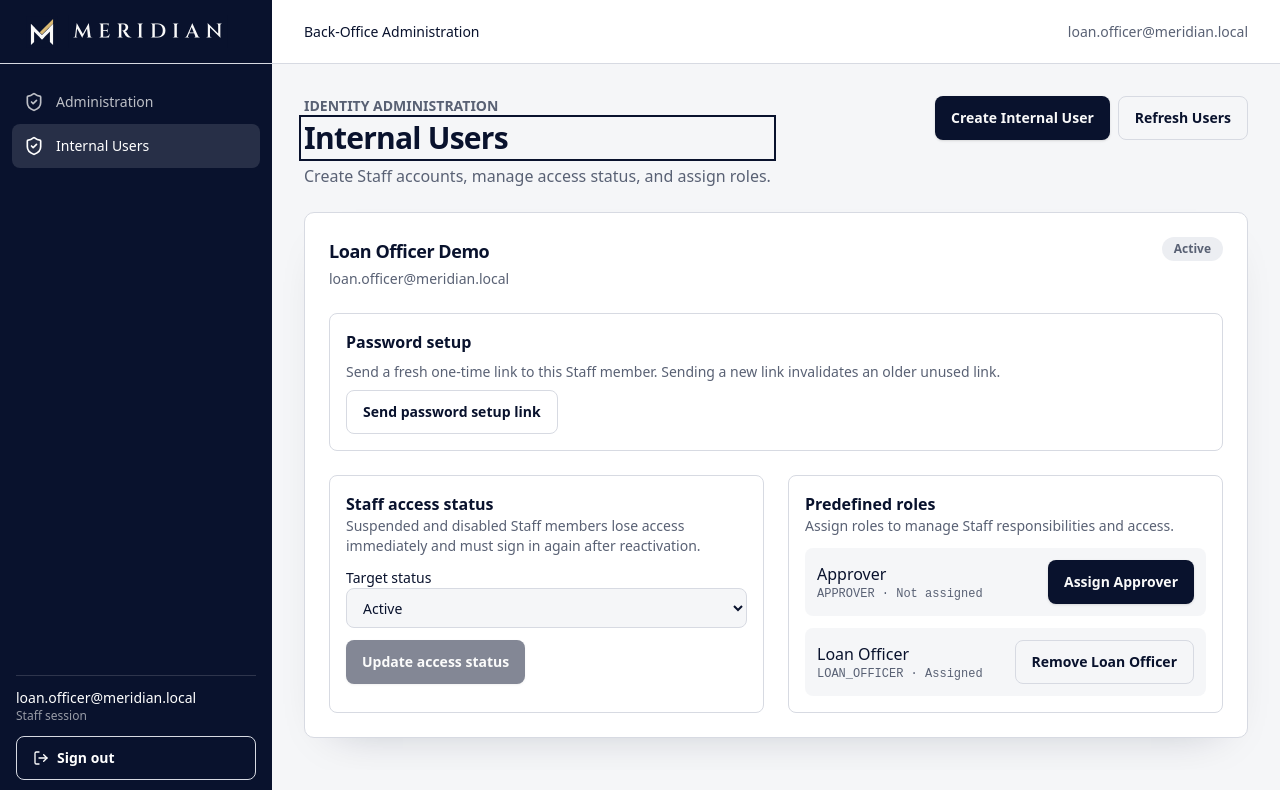
it: Internal User administration page › does not retry an unknown role result and preserves the confirmed assignment while refreshing
Expected: the heading "Loan Officer Demo" is shown, [329,237,509,265]
Click the button "Assign Approver" at (1121, 582), box [1048,560,1194,604]
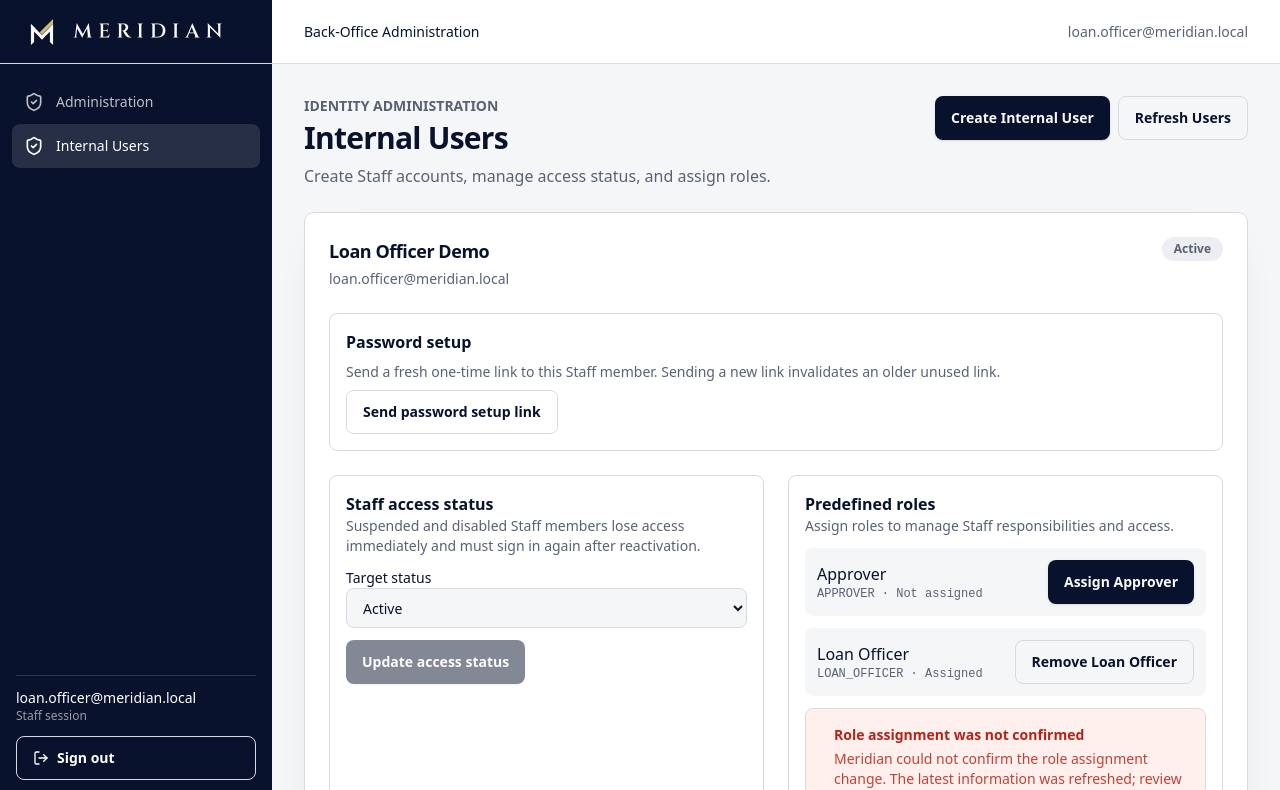
Now the heading "Role assignment was not confirmed" is shown, box [834,725,1084,744]
